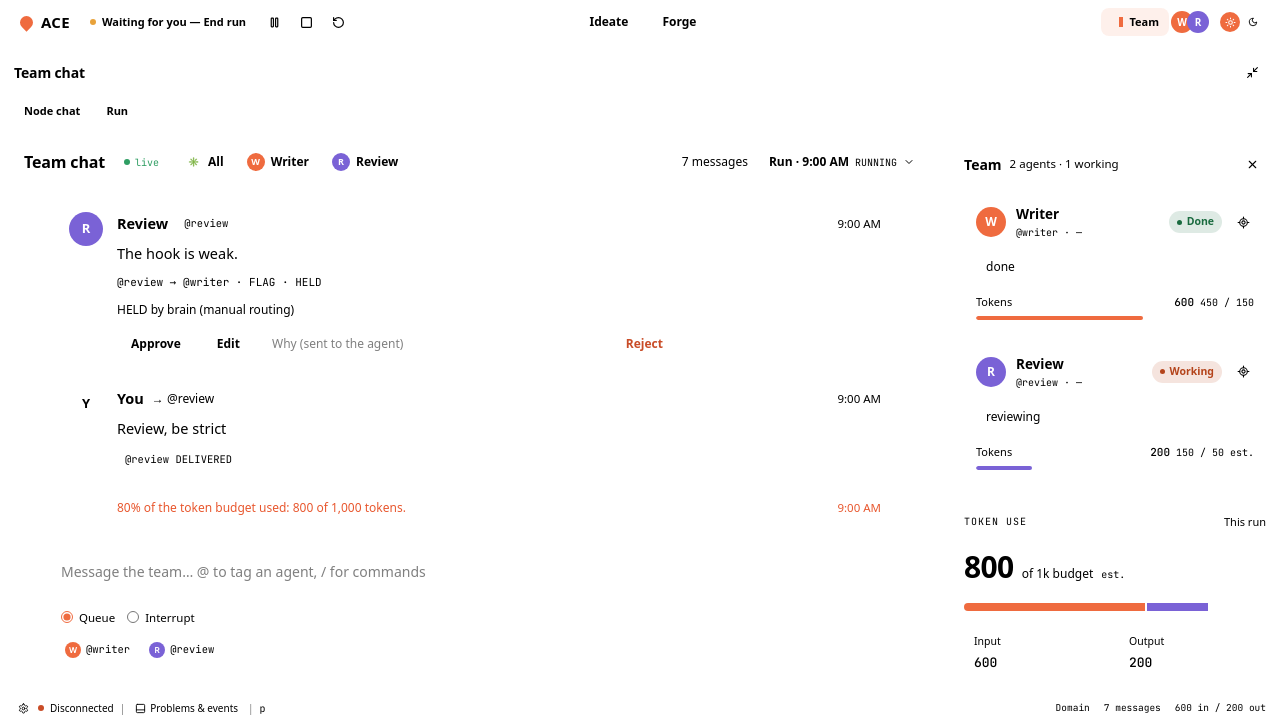
Domain page › a held envelope can be approved, edited or rejected, and leaves HELD when decided
(page scrolled)
Expected: the list item that starts with "Review" shows "HELD", top-left (295, 275), bottom-right (322, 289)
Click the button "Edit".
click(228, 344)  # box top-left (203, 329), bottom-right (254, 359)
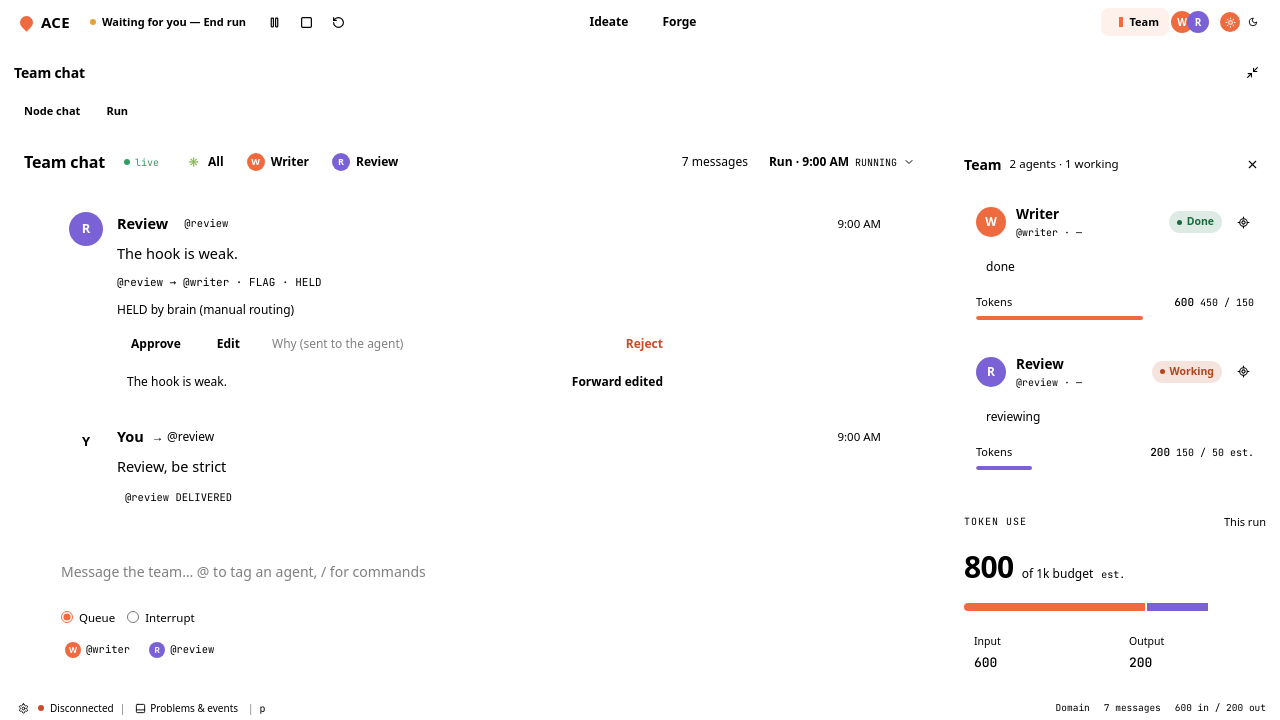
Replace the text in the field named "Edited summary" with "The hook needs a verb." at (333, 382), box top-left (117, 367), bottom-right (550, 397)
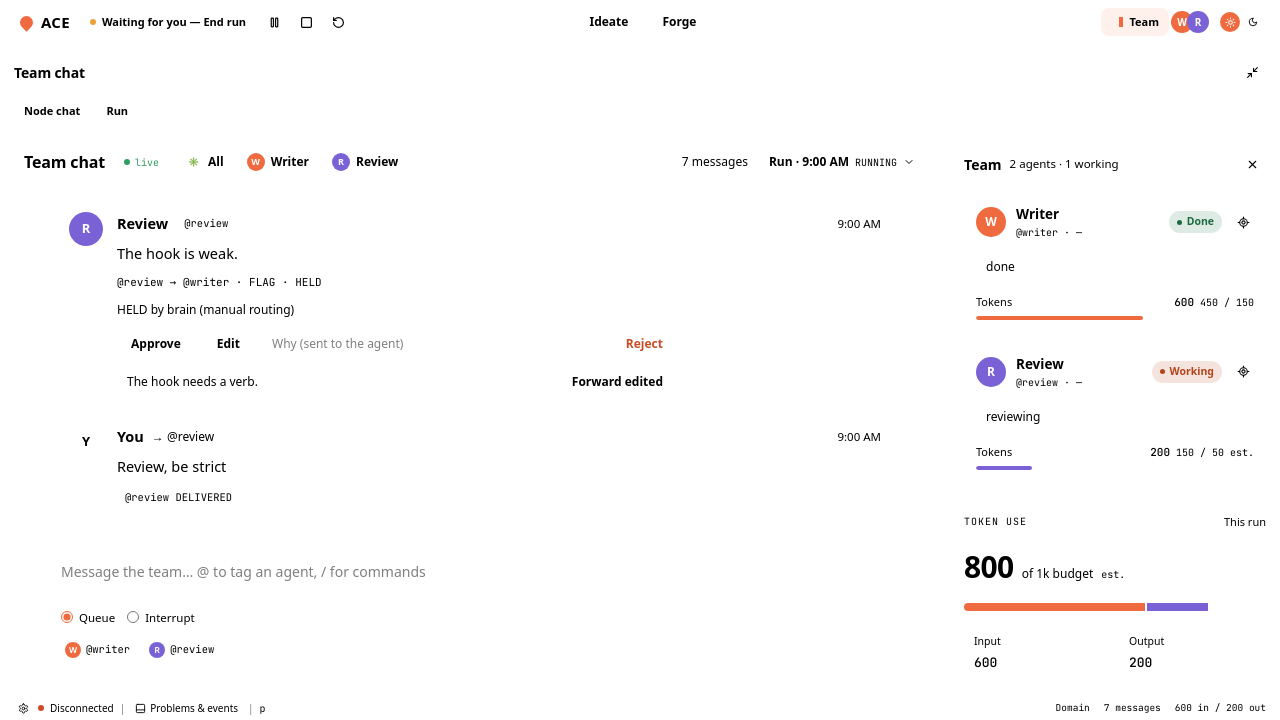
Click the button "Forward edited".
click(617, 382)  # box top-left (558, 367), bottom-right (677, 397)
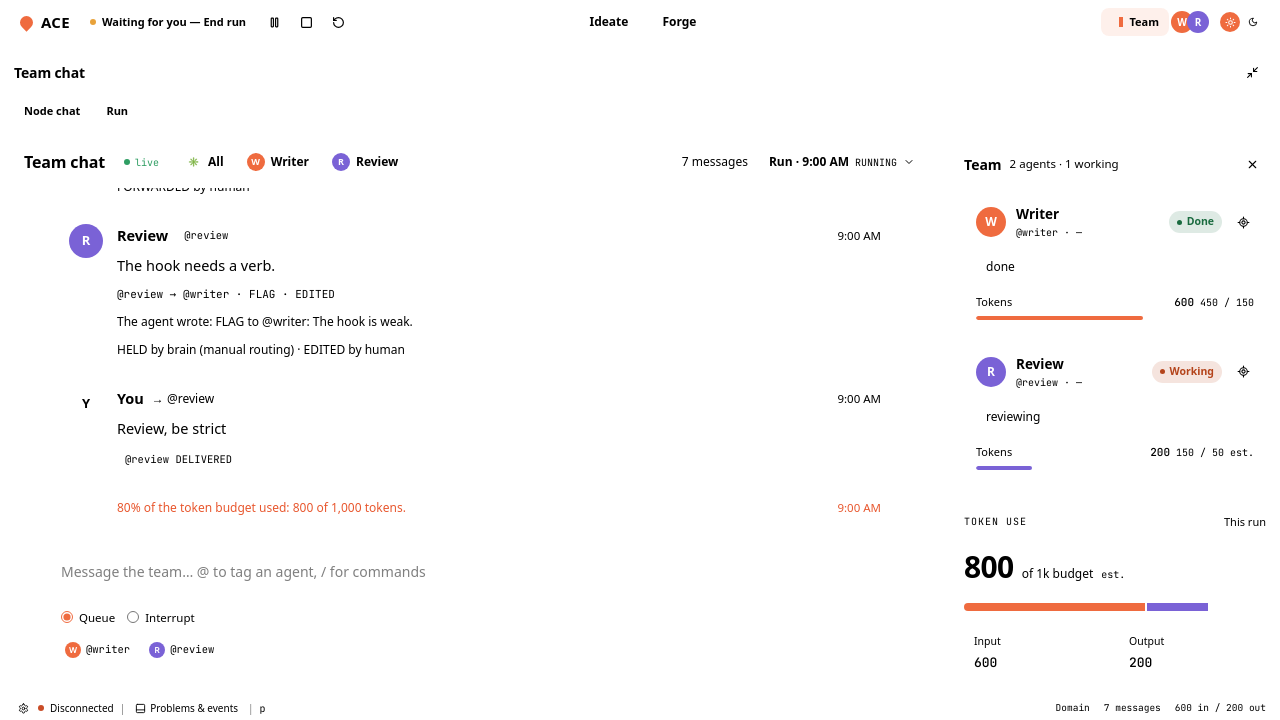
Now the list item that starts with "Review" shows "EDITED", box top-left (295, 287), bottom-right (335, 301)
Now the button "Approve" is gone
